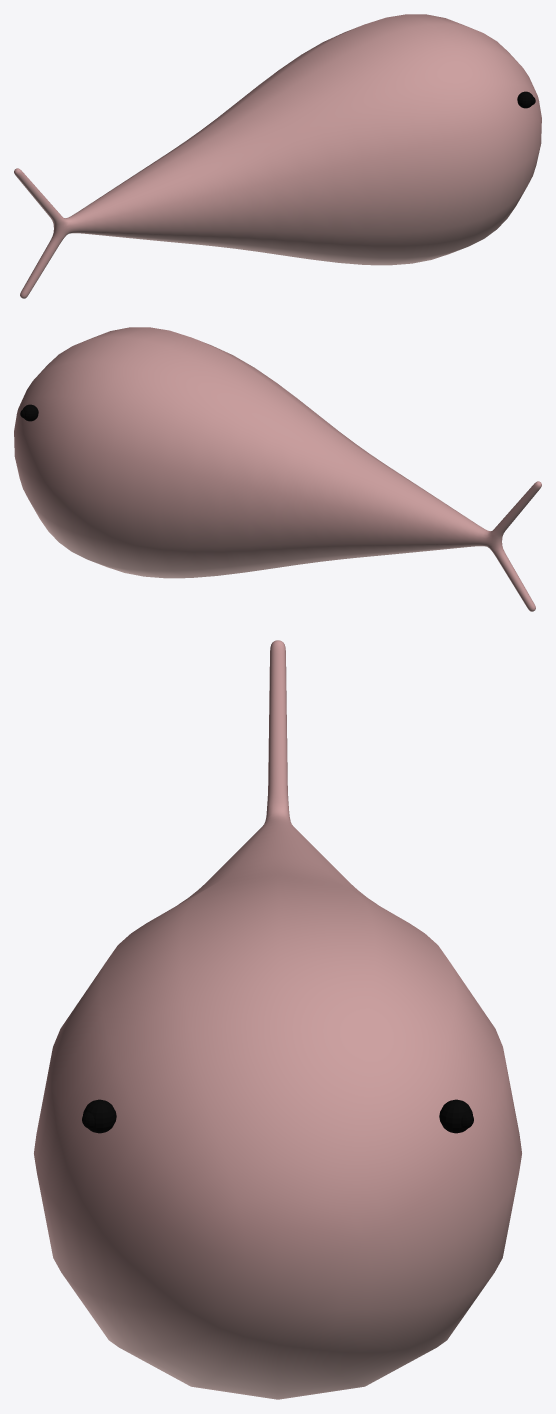
Rendered from peixe_bolha.glb.
3 views of the same model, one above another, from view 1: azimuth 30°, elevation 25°; view 2: azimuth 150°, elevation 25°; view 3: azimuth 270°, elevation 25° (orthographic). The views are drawn at different scales.
Parts seen in each view (by area): view 1: corpo; view 2: corpo; view 3: corpo.
Part boxes in pixels (bbox=[...]): corpo: bbox=[14, 14, 541, 298]; corpo: bbox=[14, 327, 541, 611]; corpo: bbox=[34, 640, 521, 1399].
Bounding box in the file's own units: 2.52 × 1.03 × 1.04.
